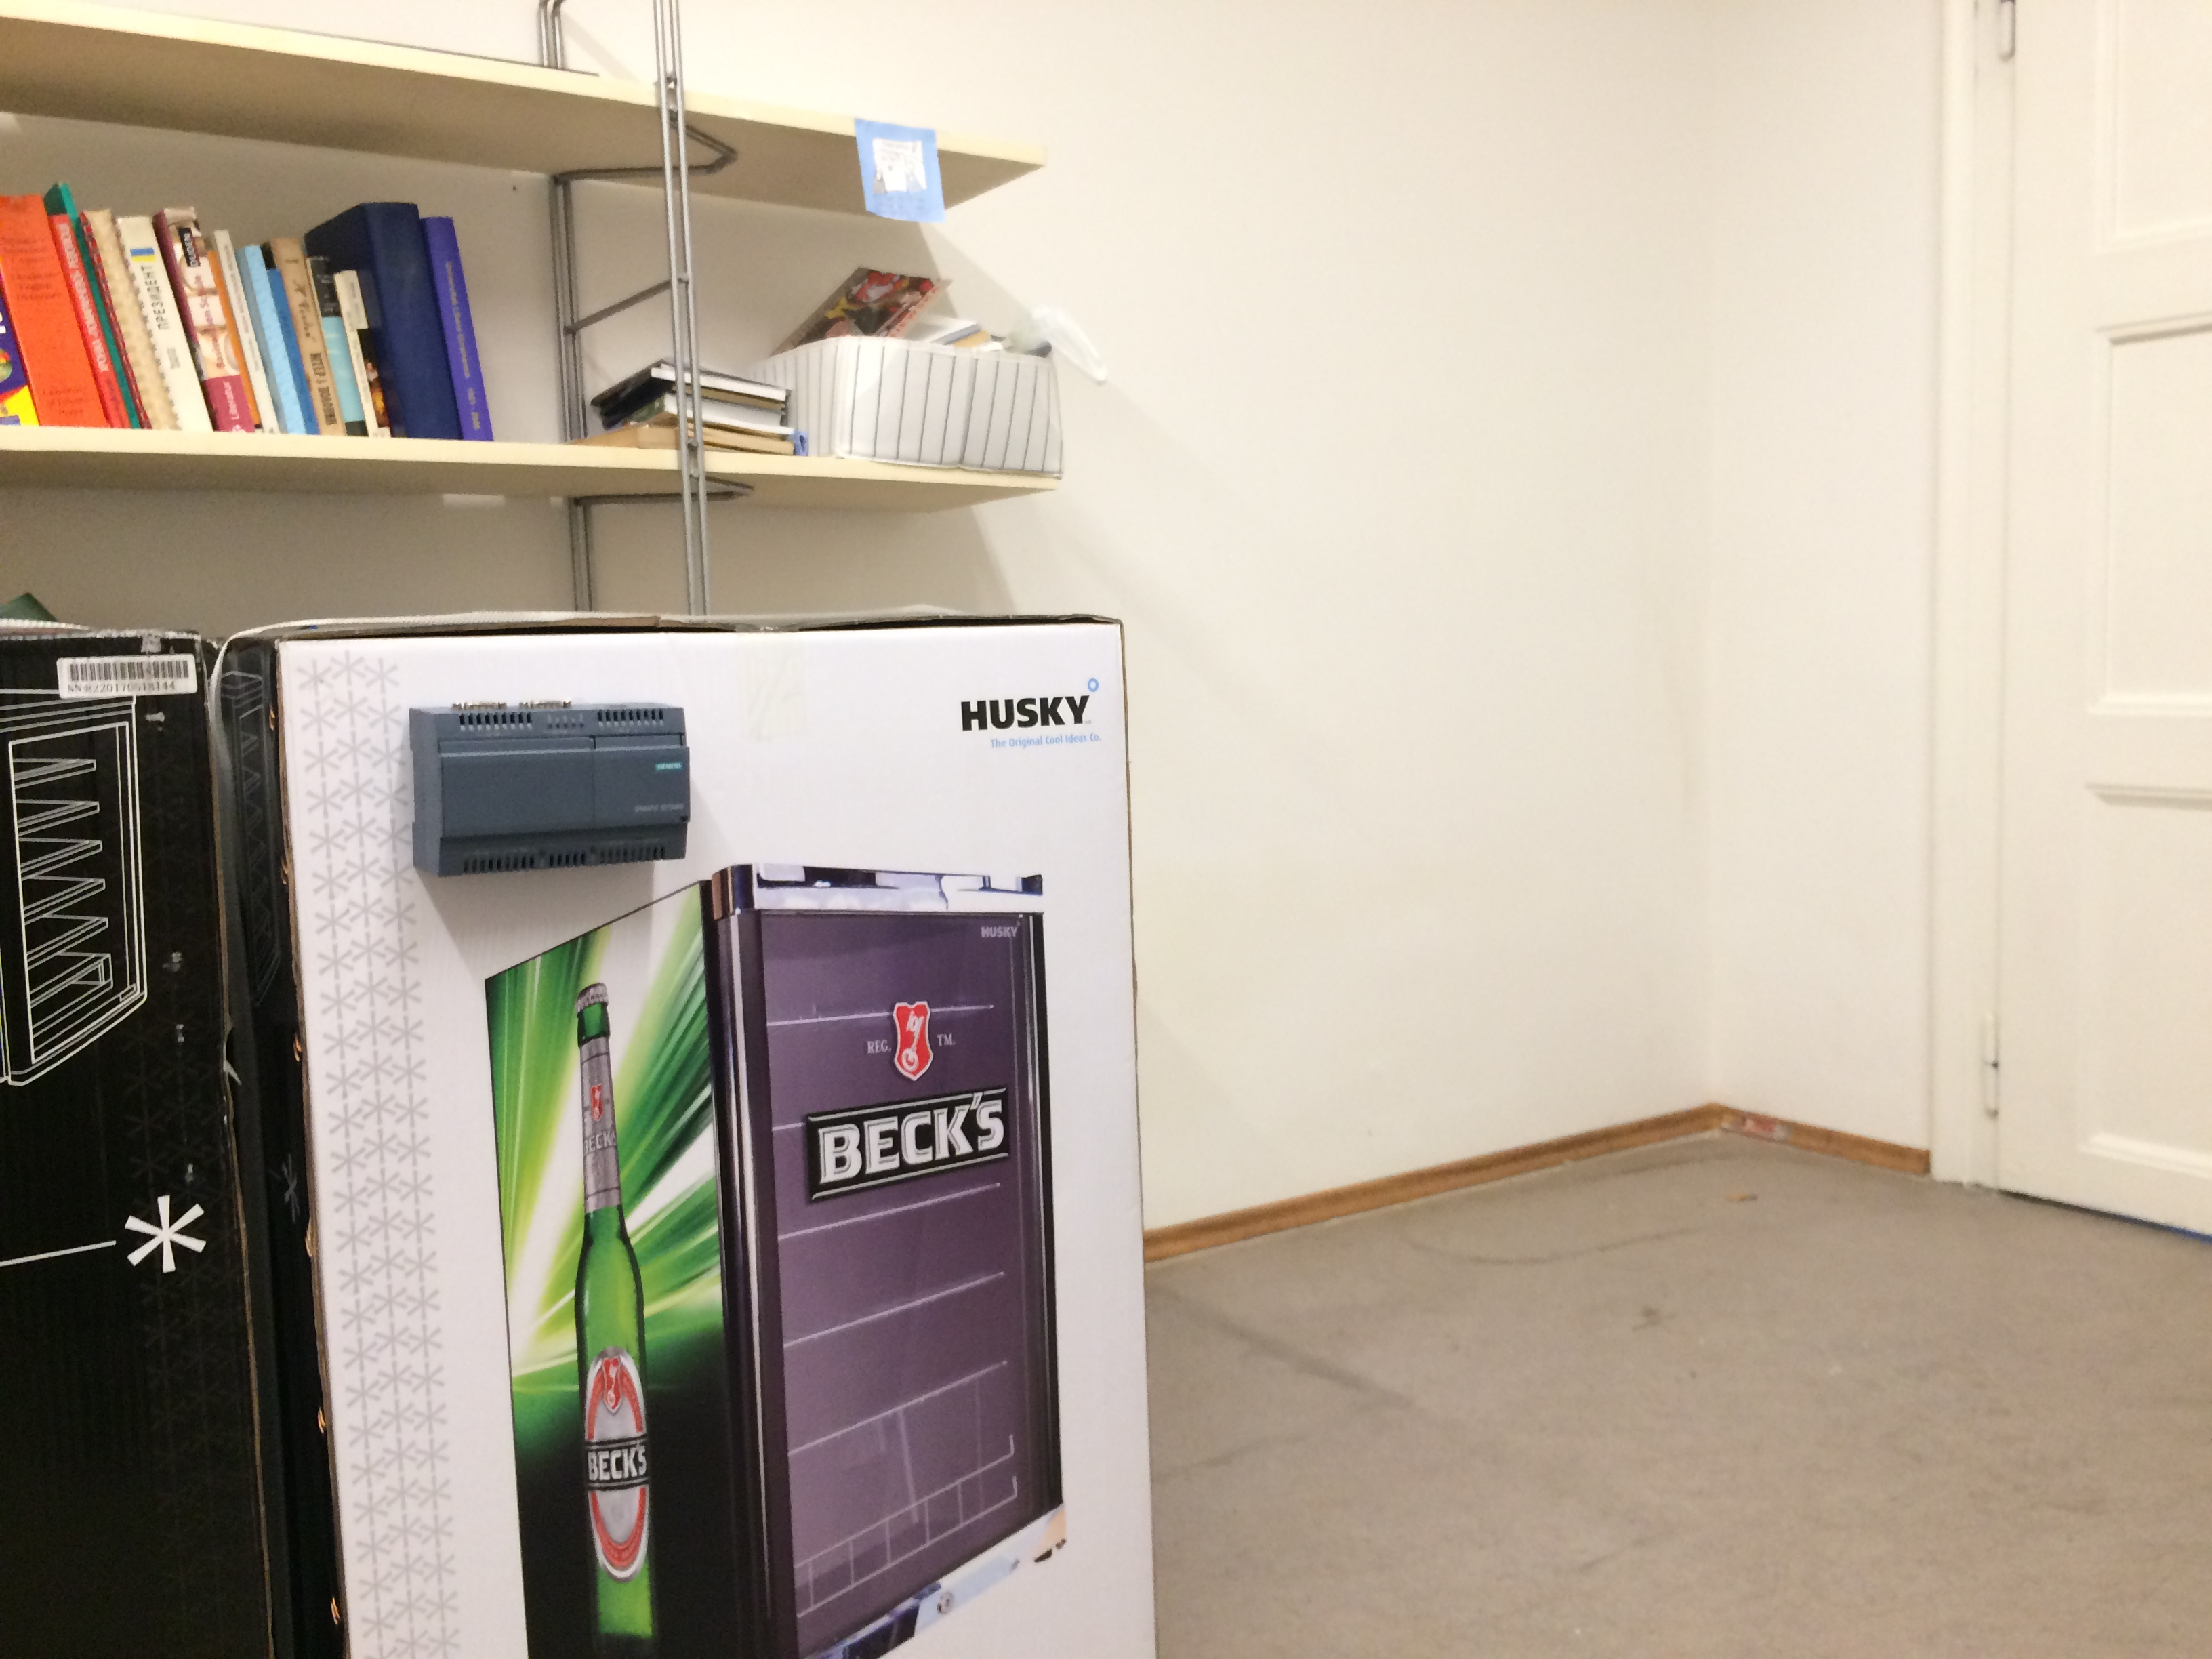iot2000: (402, 694, 695, 882)
